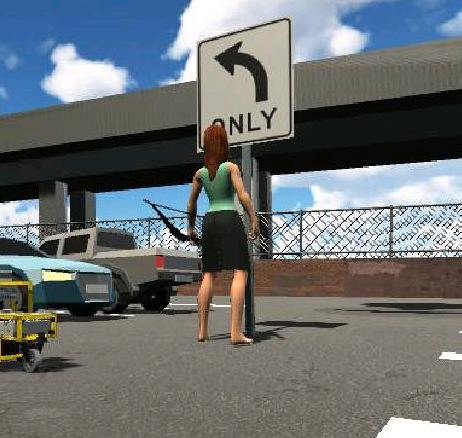arrow_left: (206, 38, 282, 103)
